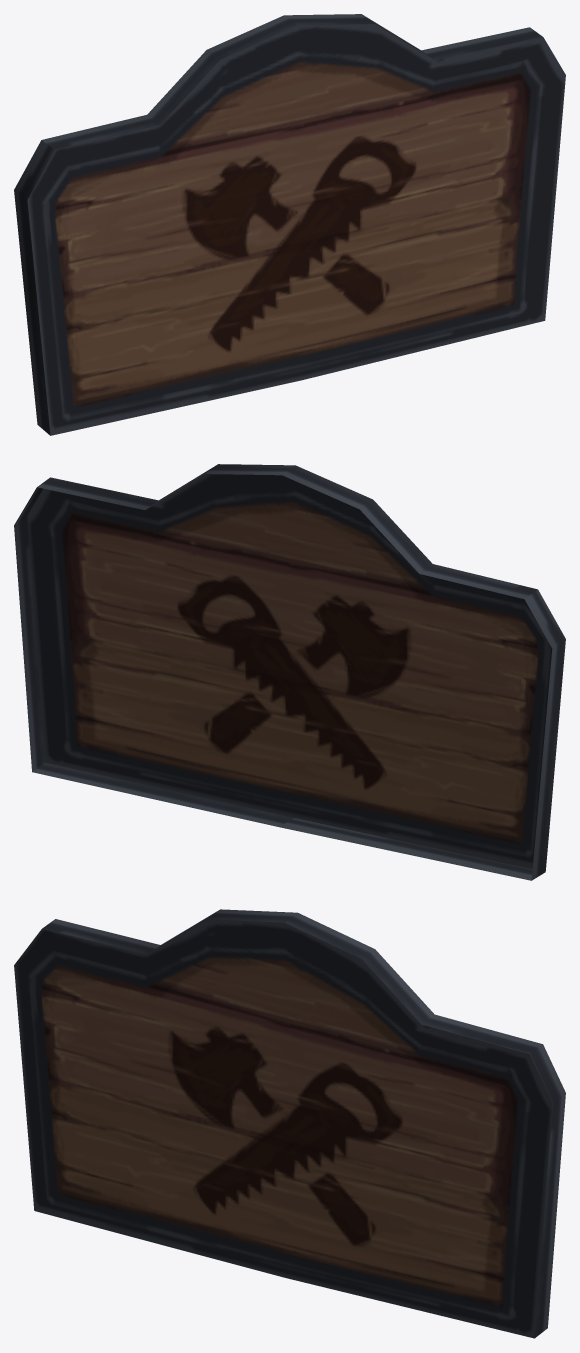
File: SM_PROP_sign_city_08.fbx
The picture shows the model from 3 angles, top to bottom: view 1: azimuth 30°, elevation 25°; view 2: azimuth 150°, elevation 25°; view 3: azimuth 330°, elevation 25°; orthographic projection.
Visible parts, largest first — view 1: SM_PROP_sign_city_08; view 2: SM_PROP_sign_city_08; view 3: SM_PROP_sign_city_08.
Boxes of the visible parts, x1=… form: SM_PROP_sign_city_08: x1=14, y1=14, x2=565, y2=435; SM_PROP_sign_city_08: x1=14, y1=464, x2=565, y2=880; SM_PROP_sign_city_08: x1=14, y1=909, x2=565, y2=1338.
Size of the model in its own units: 97.89 by 62.02 by 5.4.
